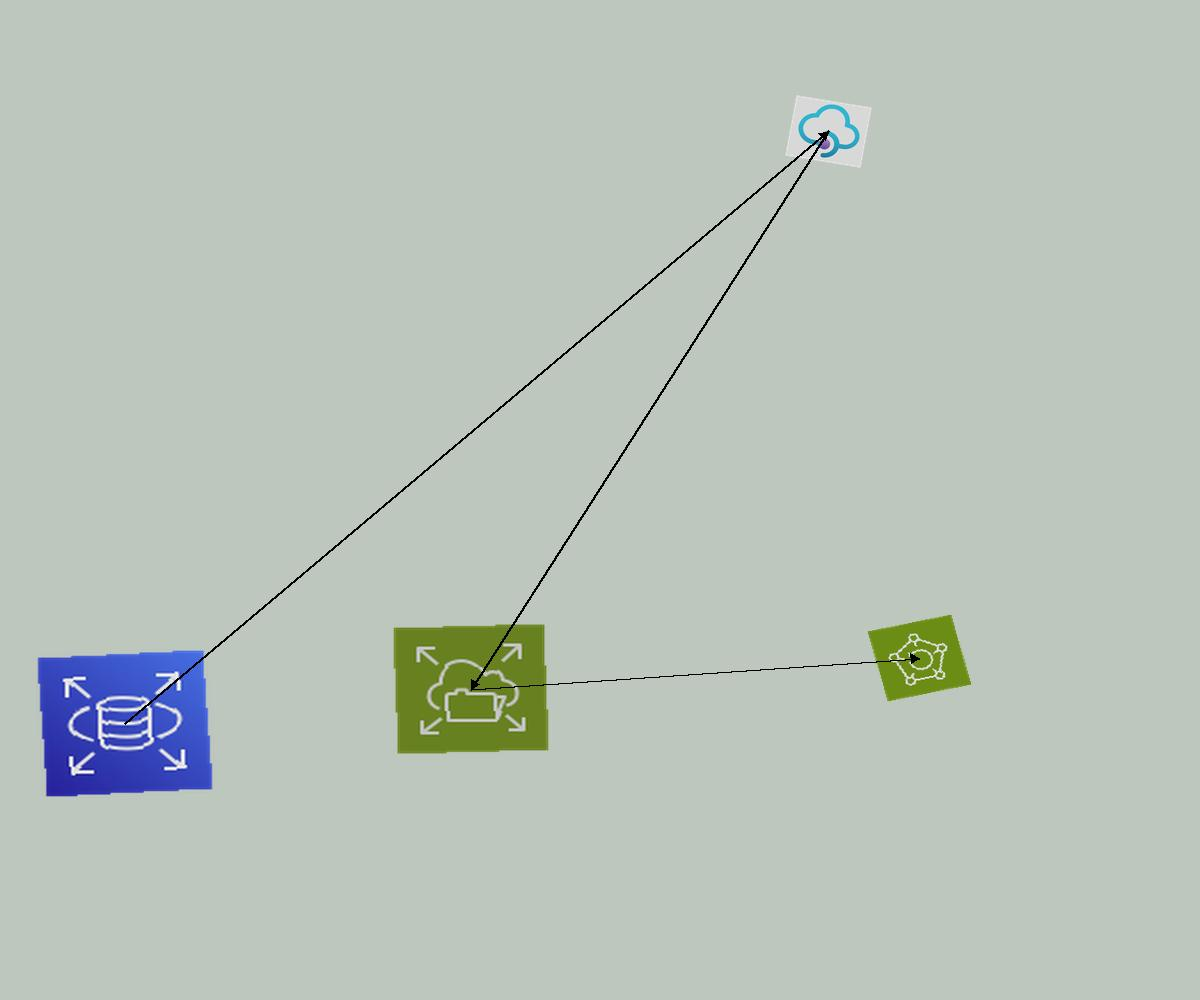AWS-Backup: (867, 614, 972, 702)
AWS-EFS: (392, 623, 550, 755)
AWS-RDS: (36, 649, 214, 798)
Azure_api_gateway: (785, 95, 872, 168)
